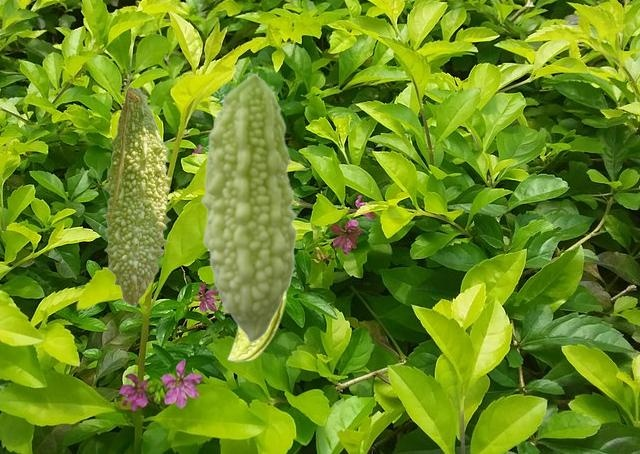ampalaya: (200, 73, 298, 343), (101, 84, 172, 308), (226, 250, 295, 364)
